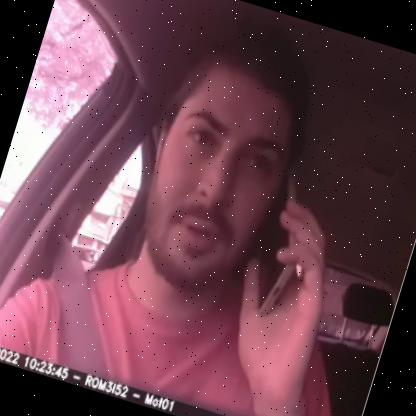phone: (236, 152, 330, 336)
